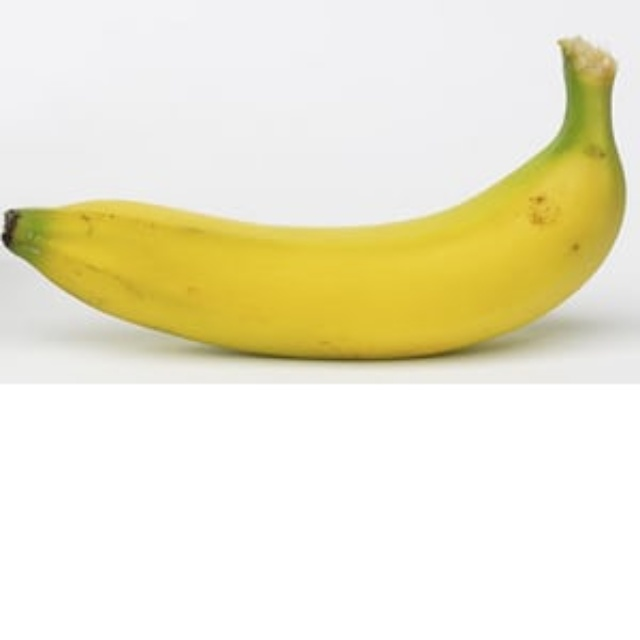chuoi: (7, 136, 626, 361)
